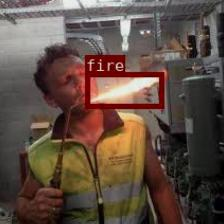fire: (84, 71, 163, 107)
